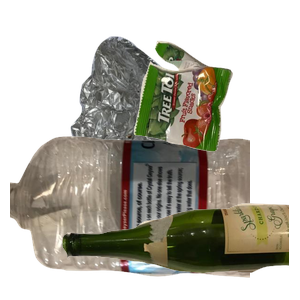glass: (60, 201, 300, 300)
metal: (68, 34, 300, 214)
plastic: (10, 134, 250, 300)
trash: (131, 38, 300, 182)
